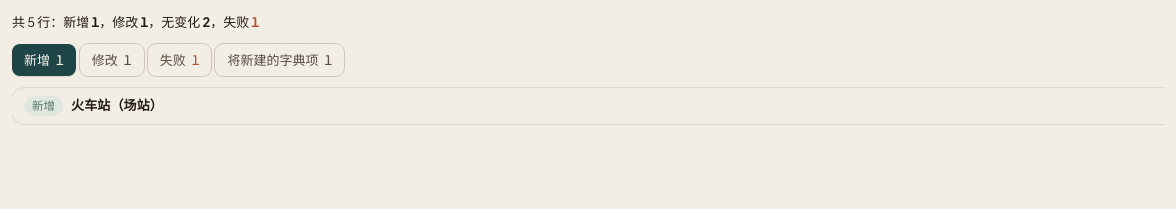
Scenario: 导入预览 › 顶部计数；页签：新增、修改（展开看改动字段）、失败、将新建的字典项
expect the element with test id "import-summary" reads "共 5 行：新增 1，修改 1，无变化 2，失败 1": met, box 12,14 -> 259,30
expect the text "火车站（场站）" is shown: met, box 71,96 -> 163,116
Click the tab "修改 1" at (112, 60), box 80,44 -> 144,76
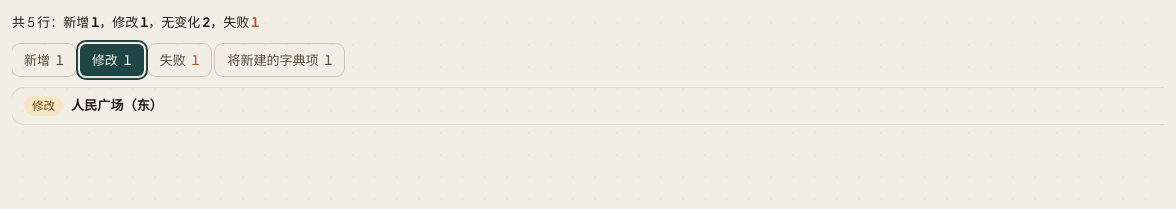
Click the button "修改 人民广场（东） 座椅数" at (44, 106), box 12,88 -> 1164,124
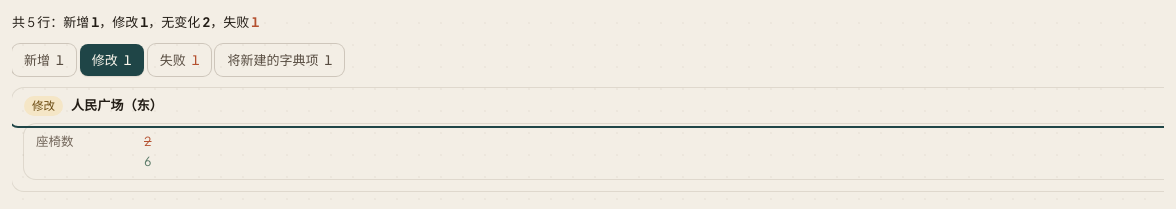
expect the text "6" is shown: met, box 144,153 -> 152,169
Click the tab "失败 1" at (180, 60), box 148,44 -> 212,76
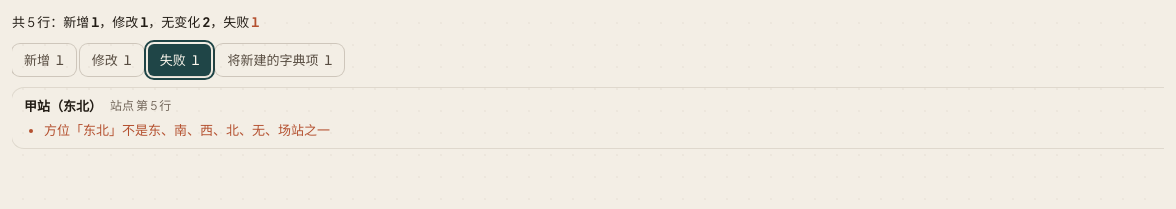
expect the list item "方位「东北」不是东、南、西、北、无、场站之一" is shown: met, box 44,122 -> 330,138
expect the text "站点 第 5 行" is shown: met, box 110,97 -> 171,116
Click the tab "将新建的字典项 1" at (280, 60), box 216,44 -> 344,76
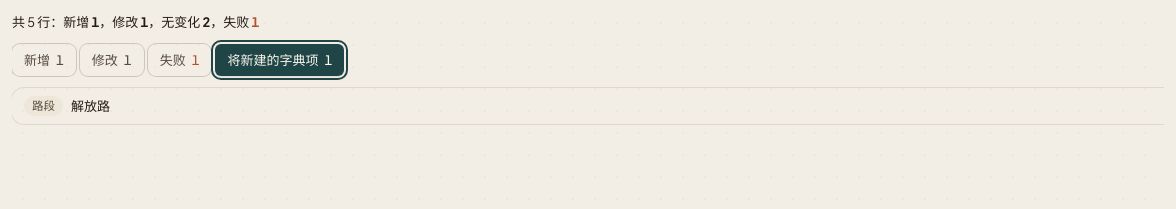
expect the text "解放路" is shown: met, box 71,96 -> 110,116
